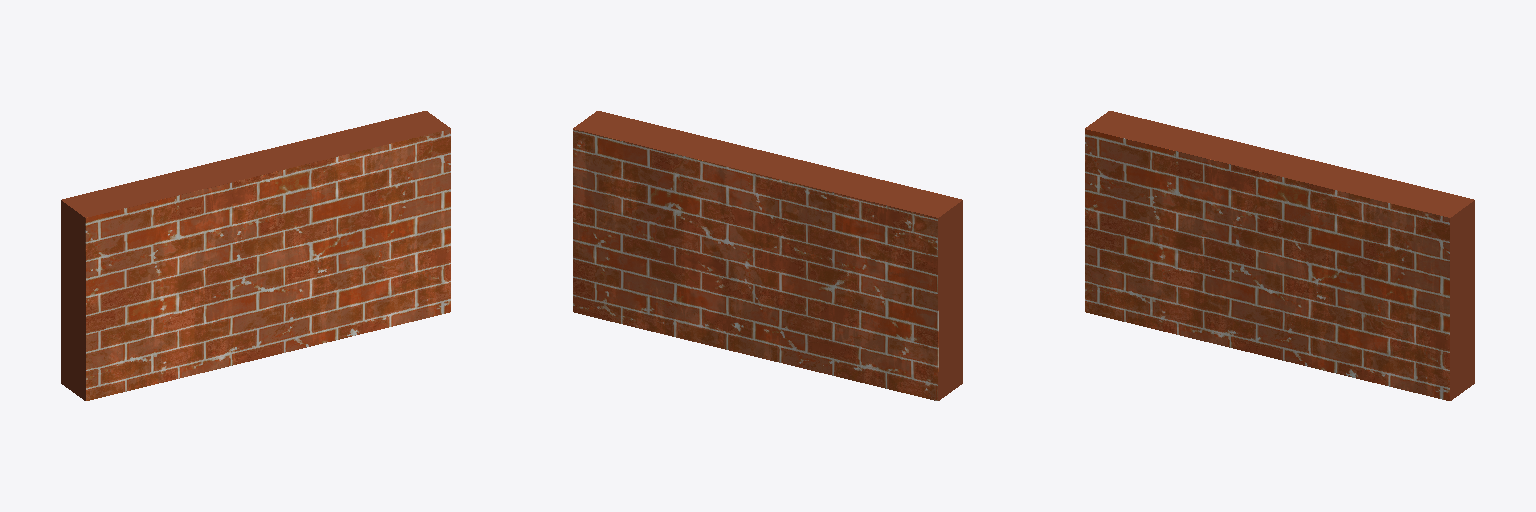
3 renders of one model, left to right at view 1: azimuth 30°, elevation 25°; view 2: azimuth 150°, elevation 25°; view 3: azimuth 330°, elevation 25°, orthographic.
Parts seen in each view (by area): view 1: shatteredbrickwall shard15, shatteredbrickwall shard16, shard11 shatteredbrickwall, shatteredbrickwall shard20, shatteredbrickwall shard13, shatteredbrickwall shard12, shatteredbrickwall shard17, shatteredbrickwall shard19; view 2: shatteredbrickwall shard15, shatteredbrickwall shard16, shard11 shatteredbrickwall, shatteredbrickwall shard20, shatteredbrickwall shard17, shatteredbrickwall shard14, shatteredbrickwall shard12, shatteredbrickwall shard18, shatteredbrickwall shard13, shatteredbrickwall shard19; view 3: shard11 shatteredbrickwall, shatteredbrickwall shard16, shatteredbrickwall shard15, shatteredbrickwall shard13, shatteredbrickwall shard20, shatteredbrickwall shard12, shatteredbrickwall shard17, shatteredbrickwall shard19.
Boxes of the visible parts, x1,y1,x2,y2 form: shatteredbrickwall shard15: [61, 182, 268, 295]; shatteredbrickwall shard16: [134, 132, 354, 237]; shard11 shatteredbrickwall: [337, 111, 450, 253]; shatteredbrickwall shard20: [61, 264, 238, 396]; shatteredbrickwall shard13: [262, 224, 392, 348]; shatteredbrickwall shard12: [80, 309, 298, 400]; shatteredbrickwall shard17: [367, 245, 450, 332]; shatteredbrickwall shard19: [195, 257, 294, 332]; shatteredbrickwall shard15: [779, 187, 962, 289]; shatteredbrickwall shard16: [662, 134, 908, 230]; shard11 shatteredbrickwall: [573, 111, 692, 244]; shatteredbrickwall shard20: [864, 275, 962, 400]; shatteredbrickwall shard17: [573, 232, 692, 341]; shatteredbrickwall shard14: [705, 211, 795, 352]; shatteredbrickwall shard12: [742, 313, 962, 395]; shatteredbrickwall shard18: [771, 257, 886, 371]; shatteredbrickwall shard13: [661, 219, 742, 343]; shatteredbrickwall shard19: [752, 278, 812, 326]; shard11 shatteredbrickwall: [1350, 178, 1474, 342]; shatteredbrickwall shard16: [1139, 129, 1384, 277]; shatteredbrickwall shard15: [1085, 111, 1267, 256]; shatteredbrickwall shard13: [1261, 221, 1391, 380]; shatteredbrickwall shard20: [1085, 207, 1237, 307]; shatteredbrickwall shard12: [1085, 273, 1297, 363]; shatteredbrickwall shard17: [1366, 306, 1474, 400]; shatteredbrickwall shard19: [1194, 253, 1292, 344].
Bounding box in the file's own units: 8.43 × 4.04 × 1.
Materials: 1 (1 with a texture image).